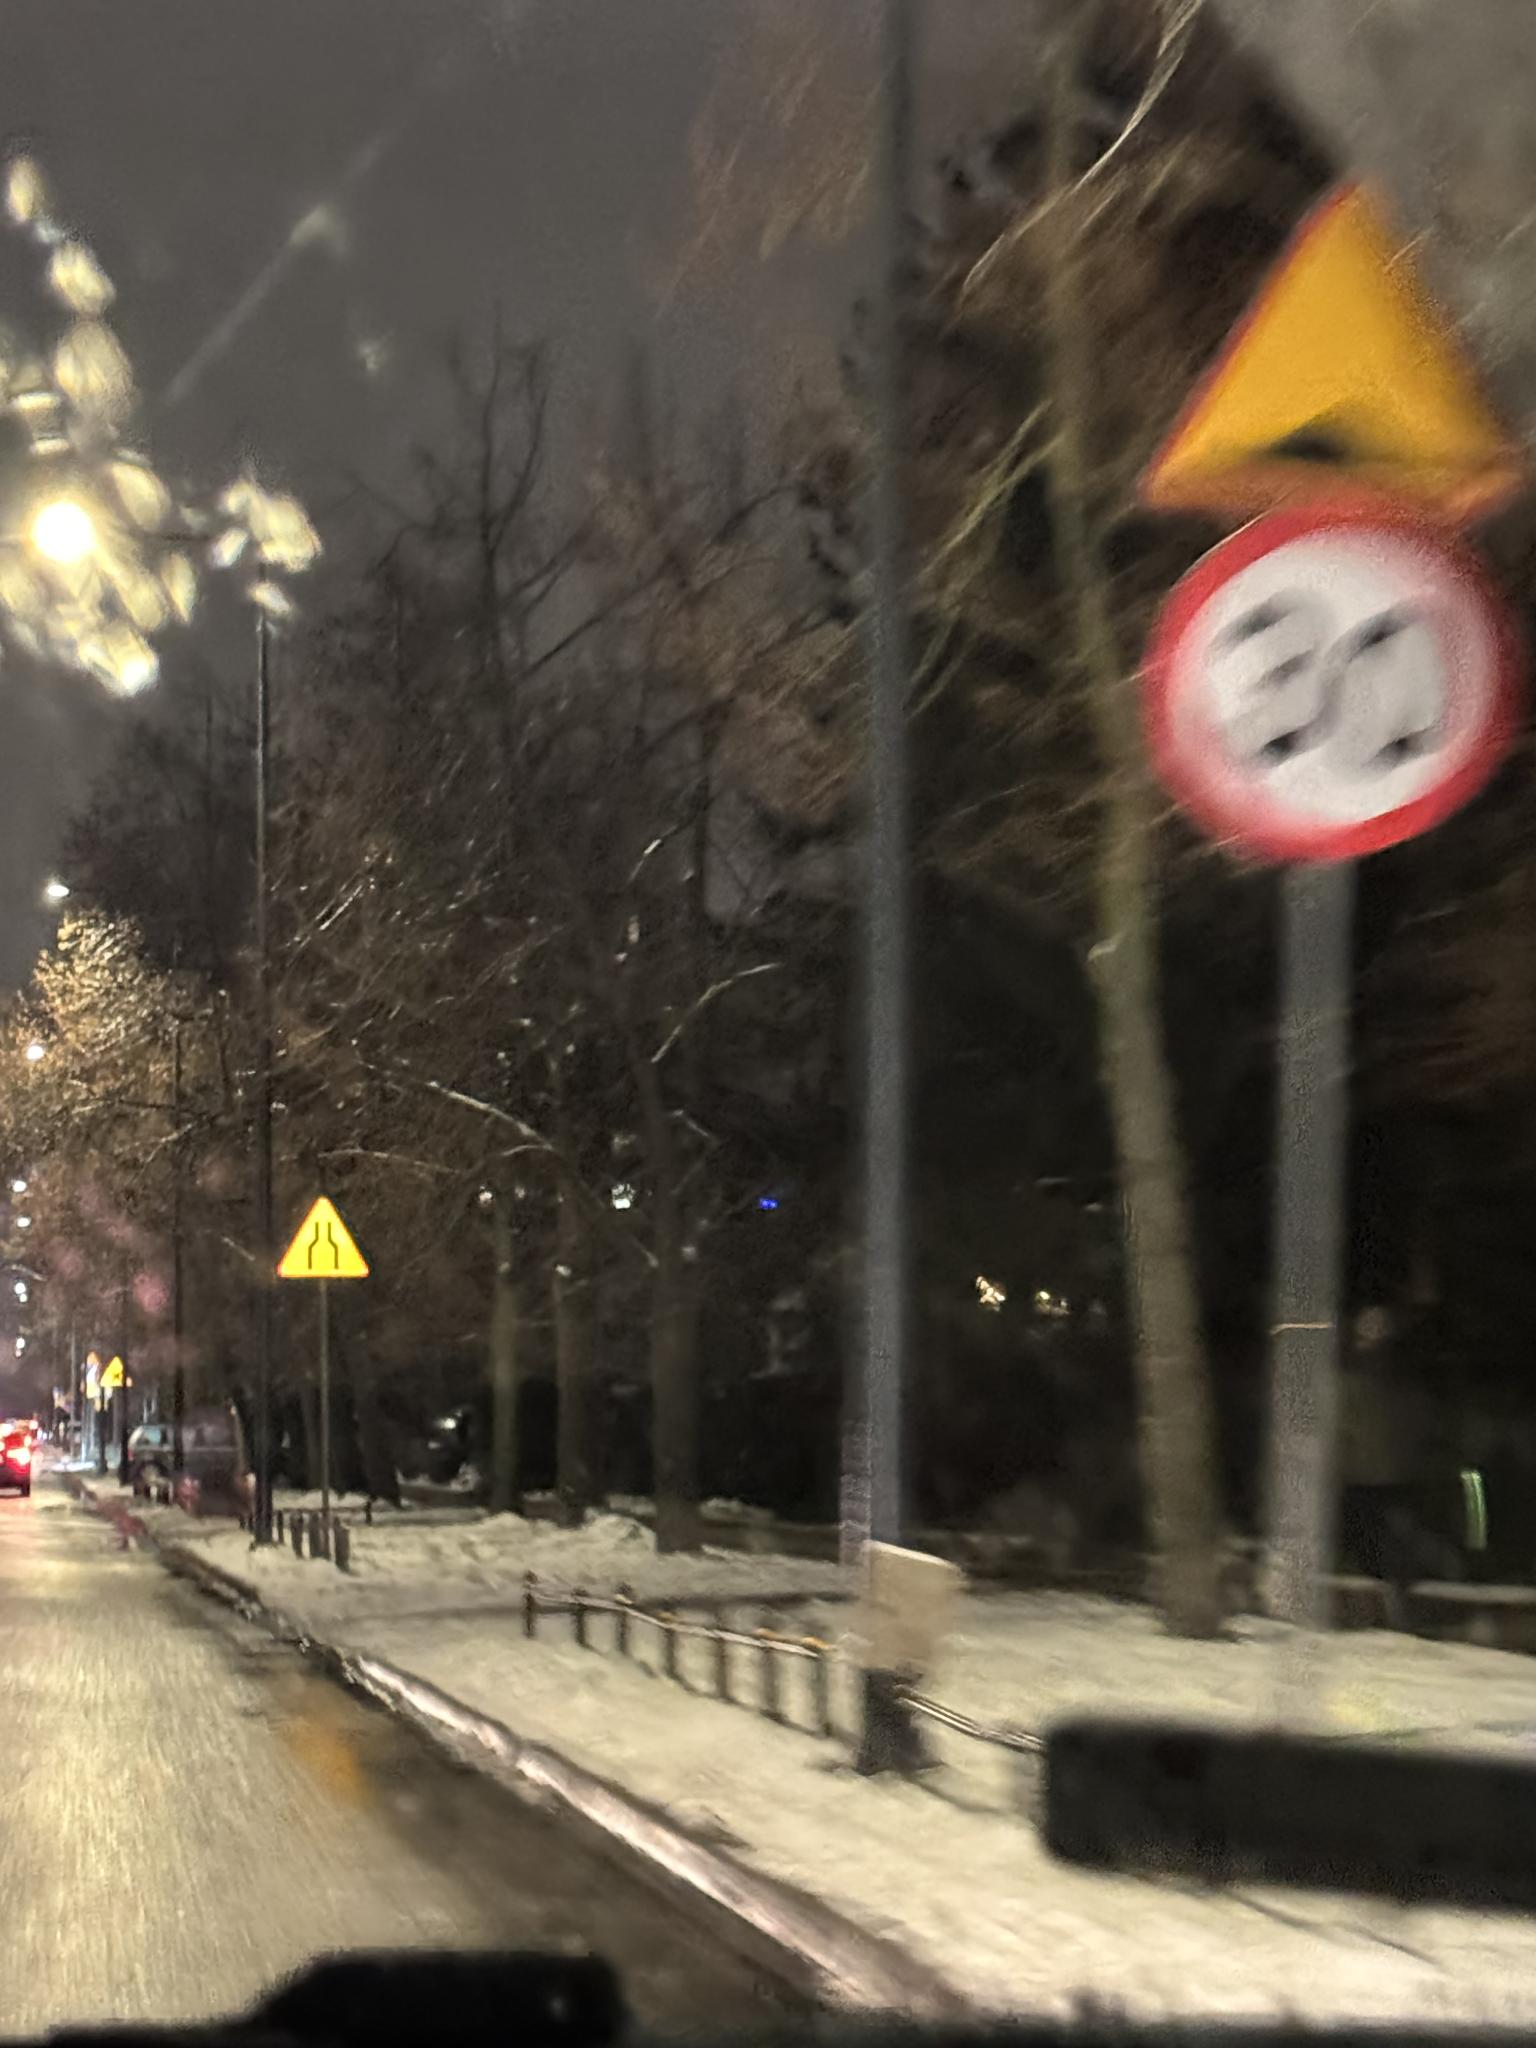prohibitory: (1137, 490, 1536, 866)
warning: (1125, 158, 1531, 522), (274, 1195, 373, 1279), (98, 1356, 123, 1387)
